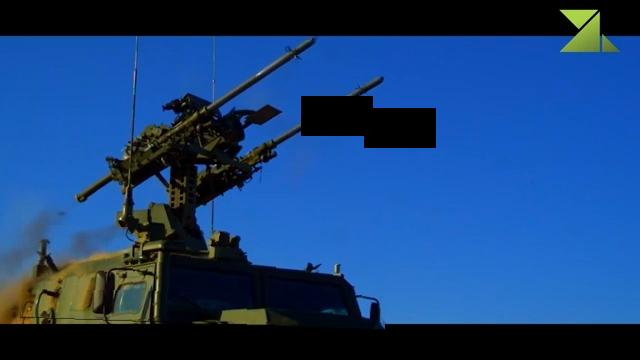MIL_HMMWV: (21, 228, 388, 328)
